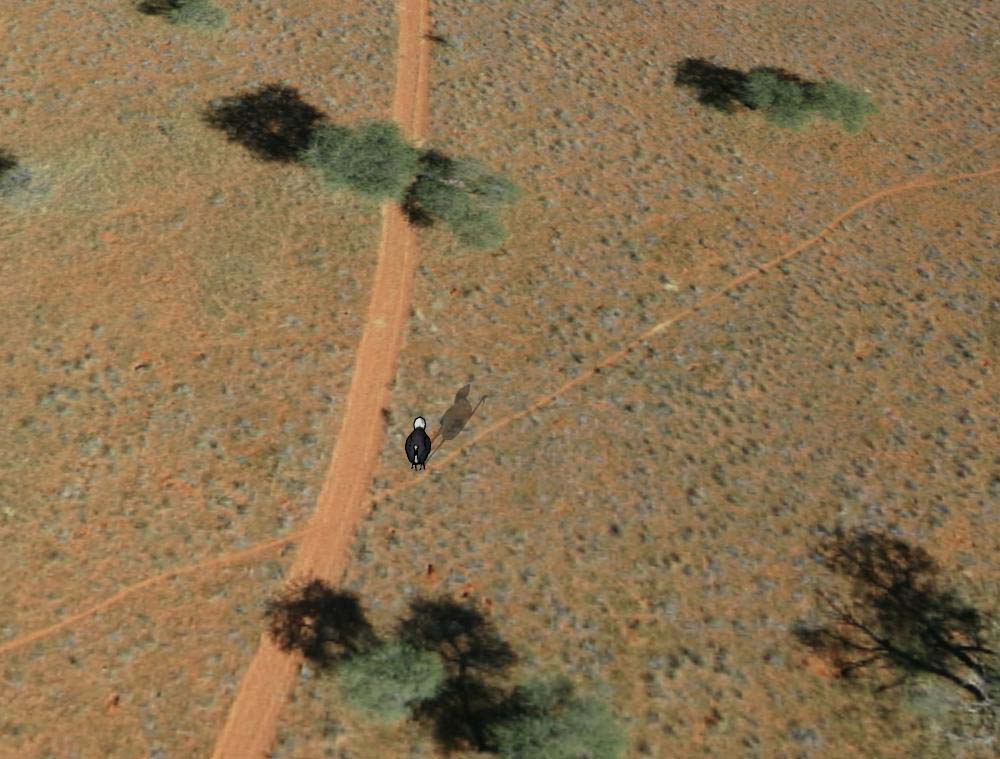ostrich: (396, 413, 438, 473)
